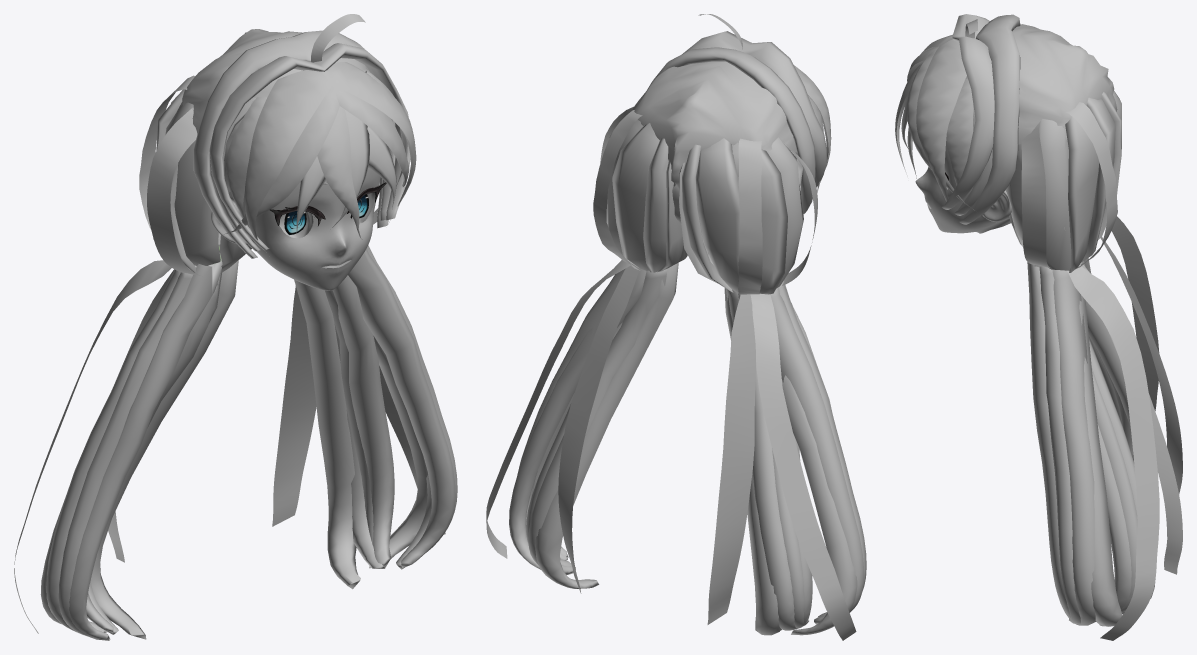
Rendered from female_hair_long_3.glb.
3 renders of one model, left to right at view 1: azimuth 30°, elevation 25°; view 2: azimuth 150°, elevation 25°; view 3: azimuth 270°, elevation 25°, orthographic. The views are drawn at different scales.
Visible parts, largest first — view 1: hair_9, hair_8, hair_13, face_1, hair_3, hair_6, hair_5, hair_14, hair_16, hair_0, face_0, hair_4 (+7 smaller); view 2: hair_14, hair_8, hair_9, hair_3, face_0, hair_4, hair_2, hair_5, hair_6, hair_0, hair_13; view 3: hair_9, hair_4, hair_14, hair_8, face_0, hair_5, hair_3, hair_13, hair_6, hair_0, face_1, hair_2 (+4 smaller).
Part boxes in pixels (left/top/right/bottom): hair_9: left=40, top=245, right=457, bottom=640; hair_8: left=86, top=244, right=394, bottom=639; hair_13: left=244, top=62, right=416, bottom=252; face_1: left=211, top=168, right=380, bottom=290; hair_3: left=108, top=233, right=316, bottom=562; hair_6: left=209, top=43, right=410, bottom=250; hair_5: left=193, top=30, right=388, bottom=258; hair_14: left=153, top=89, right=251, bottom=273; hair_16: left=224, top=86, right=409, bottom=234; hair_0: left=147, top=108, right=377, bottom=285; face_0: left=177, top=29, right=367, bottom=192; hair_4: left=14, top=260, right=445, bottom=633; hair_14: left=606, top=119, right=803, bottom=294; hair_8: left=526, top=263, right=812, bottom=635; hair_9: left=509, top=268, right=866, bottom=635; hair_3: left=558, top=264, right=755, bottom=624; face_0: left=631, top=61, right=797, bottom=224; hair_4: left=486, top=260, right=856, bottom=640; hair_2: left=593, top=110, right=762, bottom=294; hair_5: left=653, top=47, right=815, bottom=214; hair_6: left=682, top=31, right=826, bottom=187; hair_0: left=600, top=106, right=817, bottom=285; hair_13: left=794, top=65, right=831, bottom=169; hair_9: left=1027, top=258, right=1122, bottom=626; hair_4: left=1067, top=216, right=1159, bottom=640; hair_14: left=1005, top=91, right=1121, bottom=272; hair_8: left=1082, top=261, right=1154, bottom=614; face_0: left=966, top=24, right=1117, bottom=144; hair_5: left=958, top=14, right=1020, bottom=224; hair_3: left=1080, top=237, right=1182, bottom=574; hair_13: left=916, top=34, right=966, bottom=210; hair_6: left=941, top=14, right=994, bottom=209; hair_0: left=1021, top=121, right=1049, bottom=267; face_1: left=915, top=146, right=1011, bottom=233; hair_2: left=1065, top=102, right=1117, bottom=268.
Size of the model in its own units: 0.7009 by 1.01 by 0.4661.
23 materials, 2 textured.
